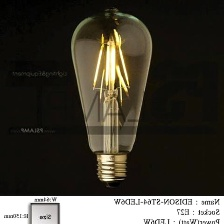light_bulb: (69, 3, 158, 195)
